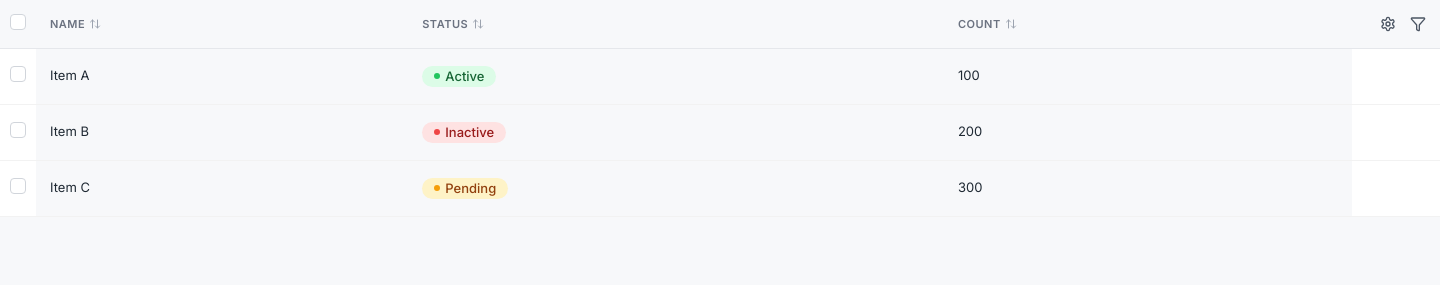
ServerTable › context menu › shows operator options for number column context menu
Right-click the cell "100" at (969, 75), box [944,48,1352,104]
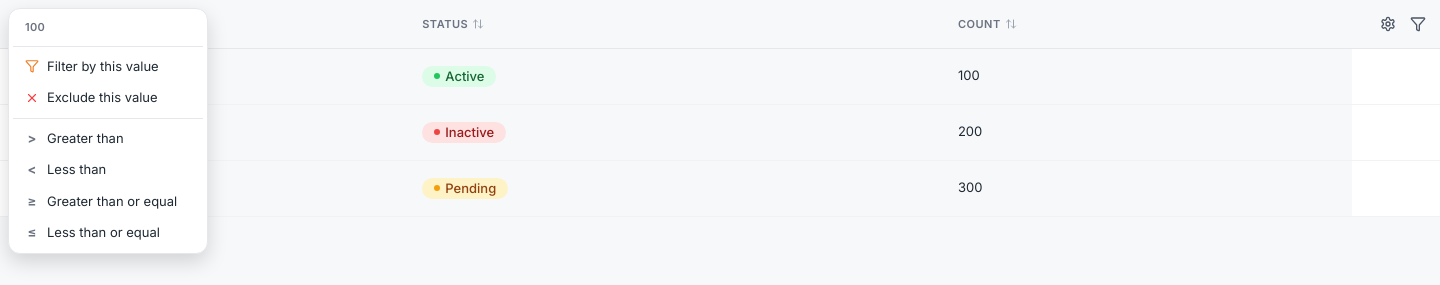
Expected: the text "Greater than" is shown, [47,128,124,148]
Expected: the text "Less than" is shown, [47,160,106,180]
